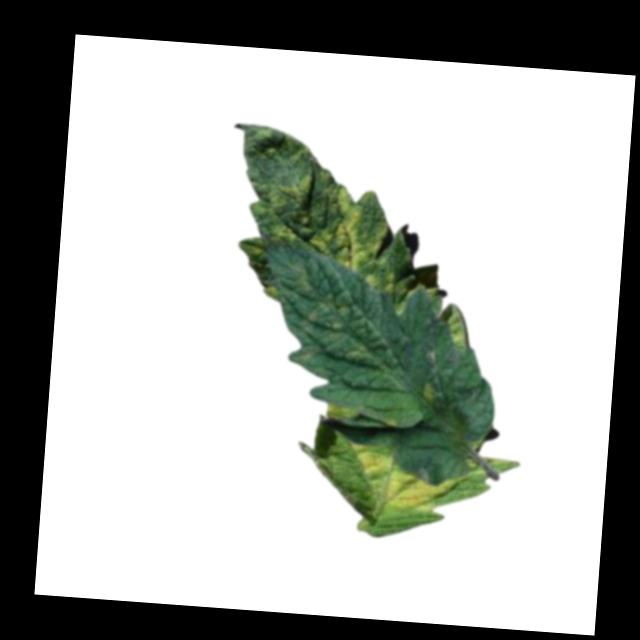Leaf_Mold: (281, 263, 408, 378), (346, 441, 463, 516), (327, 184, 391, 275)
